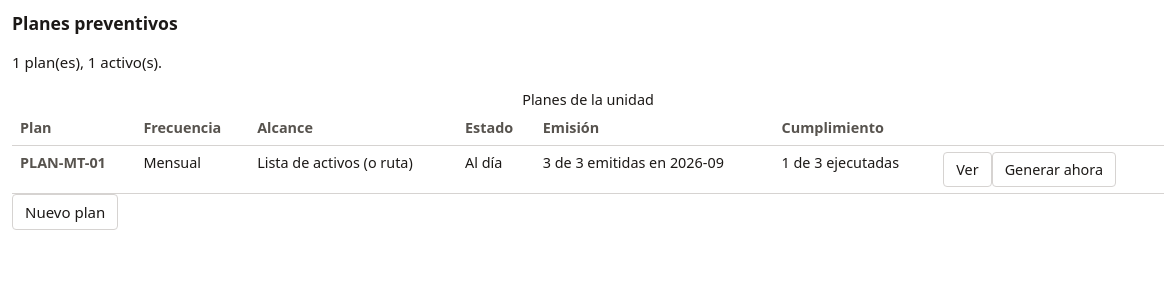
it: generar ahora › un error del servidor se muestra tal cual
The image size is (1164, 294).
Click the button "Generar ahora": (1054, 170) [992, 152, 1116, 187]
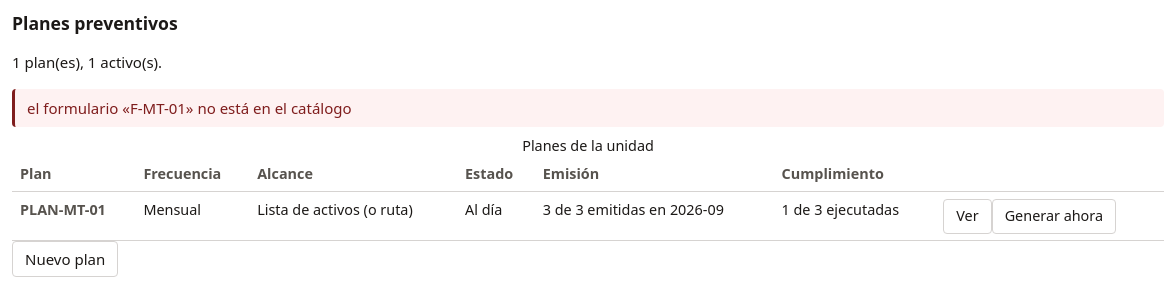
Check: the text "el formulario «F-MT-01» no está en el catálogo" is shown, box [12, 89, 1163, 127]
